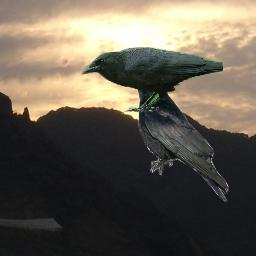Crow: (119, 66, 229, 202), (81, 47, 224, 114)
